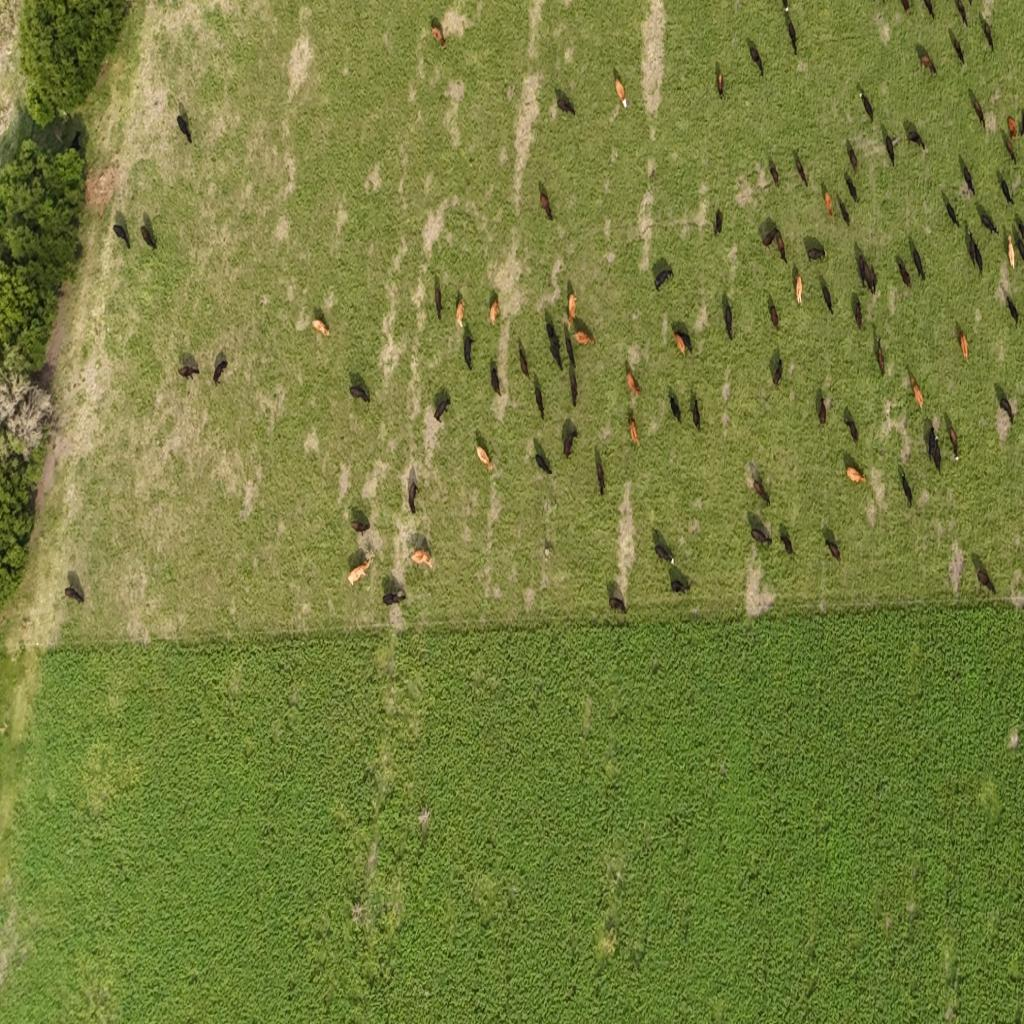cow: (972, 553, 996, 596), (996, 387, 1016, 428), (533, 438, 552, 478), (904, 118, 925, 154), (653, 258, 674, 292), (910, 237, 926, 281), (416, 803, 432, 847), (653, 536, 676, 566), (968, 88, 984, 130), (433, 389, 451, 426), (555, 86, 575, 118), (348, 559, 370, 588), (668, 567, 690, 595), (752, 471, 770, 505), (748, 40, 764, 78), (410, 547, 434, 572), (722, 291, 734, 341), (899, 466, 913, 508), (949, 31, 965, 67), (999, 174, 1015, 210), (858, 87, 874, 123), (613, 70, 627, 111), (909, 372, 924, 410), (844, 408, 859, 446), (820, 275, 834, 315), (533, 375, 545, 421), (794, 149, 808, 188), (212, 352, 228, 386), (608, 584, 626, 614), (779, 524, 795, 557), (896, 257, 912, 290), (475, 443, 492, 474), (562, 428, 579, 459), (350, 510, 371, 535), (430, 18, 446, 50), (751, 524, 772, 548), (1002, 132, 1016, 168), (980, 212, 1000, 237), (382, 587, 406, 607), (176, 113, 192, 143), (948, 422, 960, 462), (518, 340, 530, 380), (785, 16, 797, 56), (140, 222, 157, 250), (668, 391, 682, 425), (962, 164, 976, 197), (770, 351, 782, 389), (981, 17, 994, 52), (113, 223, 130, 249), (824, 536, 841, 562), (463, 330, 474, 370), (490, 360, 502, 396), (885, 132, 897, 168), (690, 391, 701, 430), (919, 52, 936, 77), (626, 370, 641, 398), (958, 328, 970, 363), (350, 383, 370, 404), (539, 192, 553, 222), (768, 295, 780, 330), (546, 322, 561, 350), (408, 477, 419, 515), (845, 172, 858, 204), (628, 413, 640, 447), (846, 140, 858, 174), (846, 466, 867, 485), (806, 246, 828, 264), (1006, 233, 1016, 271), (65, 585, 84, 605), (818, 390, 828, 428), (673, 329, 687, 356), (574, 329, 595, 347), (312, 317, 330, 338), (876, 335, 885, 377), (954, 0, 968, 27), (434, 273, 442, 320), (488, 296, 500, 326), (1006, 115, 1018, 145), (568, 372, 578, 408), (838, 196, 850, 226), (1006, 296, 1018, 326), (595, 465, 606, 497), (776, 230, 787, 262), (566, 334, 576, 369), (864, 261, 874, 296), (550, 343, 562, 371), (762, 226, 776, 250), (927, 423, 936, 460), (178, 365, 200, 380), (854, 296, 863, 332), (858, 254, 867, 290), (455, 297, 465, 329), (769, 157, 779, 189), (566, 292, 576, 323), (947, 202, 958, 230), (934, 435, 942, 473), (716, 62, 724, 100), (974, 242, 984, 272), (795, 274, 803, 307), (922, 0, 935, 20), (968, 230, 976, 262), (824, 190, 833, 218), (70, 131, 82, 152), (714, 208, 723, 236), (897, 0, 910, 16), (1020, 109, 1024, 139)
